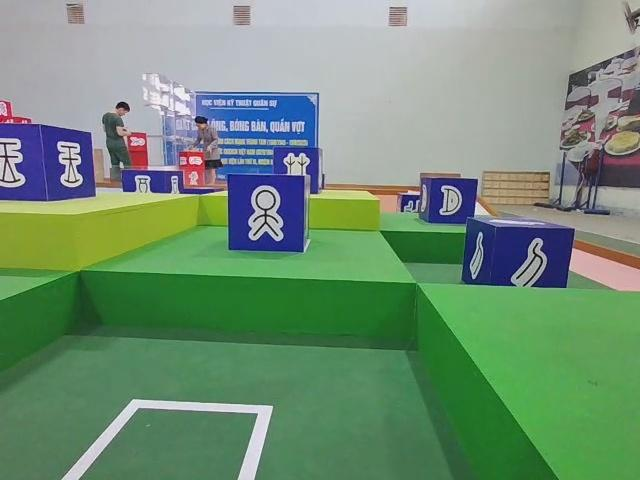R2 Real Blue: (462, 216, 575, 289), (1, 122, 95, 203), (227, 173, 310, 255), (418, 176, 478, 225), (274, 146, 322, 194), (122, 166, 186, 194)
